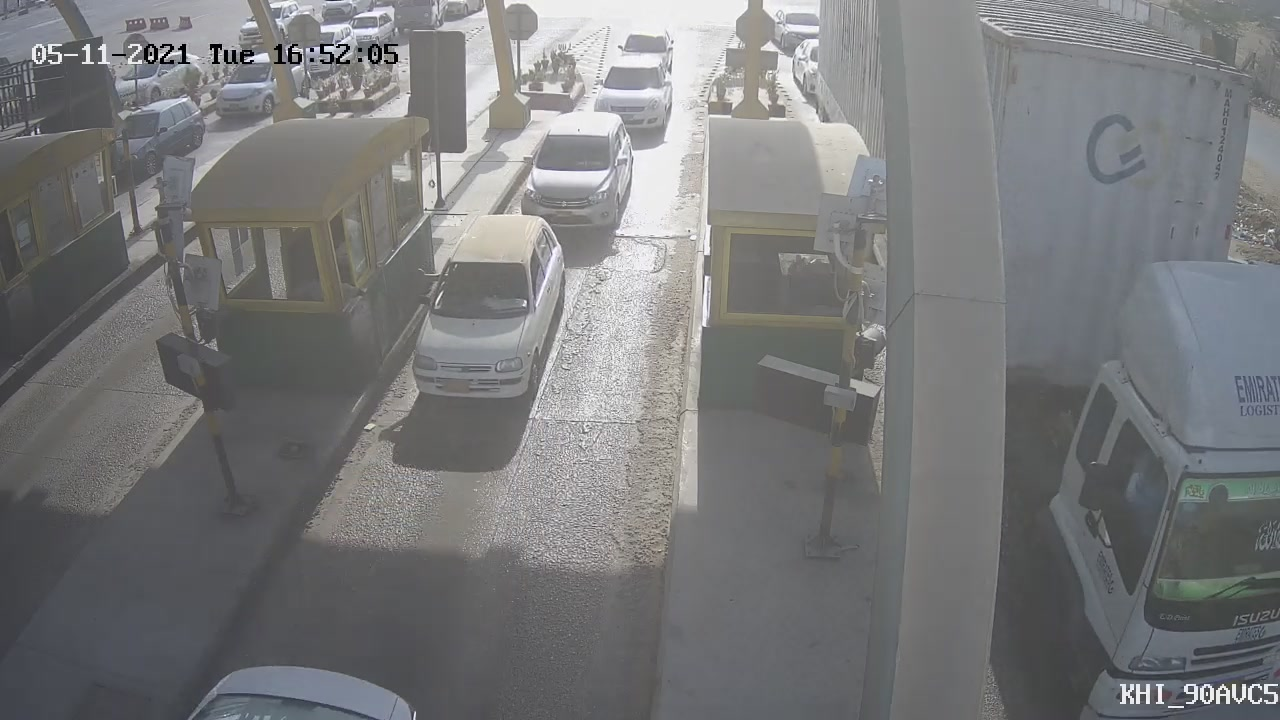F1: (387, 198, 585, 421), (507, 99, 646, 243), (577, 44, 683, 149)
